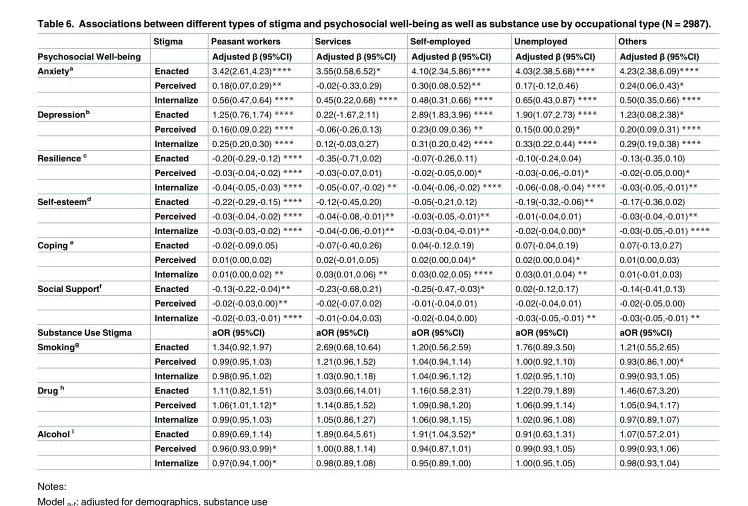table: (36, 36, 709, 467)
table column: (36, 36, 146, 467), (203, 36, 307, 467), (403, 36, 507, 467), (507, 36, 611, 467), (611, 36, 709, 467), (307, 36, 403, 467), (146, 36, 203, 467)
table column header: (36, 36, 709, 48)
table row: (36, 309, 709, 325), (36, 396, 709, 412), (36, 62, 709, 77), (36, 91, 709, 106), (36, 106, 709, 121), (36, 135, 709, 150), (36, 164, 709, 179), (36, 193, 709, 208), (36, 222, 709, 237), (36, 251, 709, 266), (36, 280, 709, 295), (36, 338, 709, 353), (36, 353, 709, 368), (36, 425, 709, 440), (36, 48, 709, 62), (36, 77, 709, 91), (36, 121, 709, 135), (36, 150, 709, 164), (36, 179, 709, 193), (36, 208, 709, 222), (36, 237, 709, 251), (36, 266, 709, 280), (36, 295, 709, 309), (36, 368, 709, 382), (36, 382, 709, 396), (36, 440, 709, 454), (36, 325, 709, 338), (36, 412, 709, 425), (36, 454, 709, 467), (36, 36, 709, 48)
table spanning cell: (36, 280, 146, 325), (36, 62, 146, 106), (36, 106, 146, 150), (36, 193, 146, 237), (36, 338, 146, 382), (36, 150, 146, 193), (36, 237, 146, 280), (36, 382, 146, 425), (36, 425, 146, 467)
